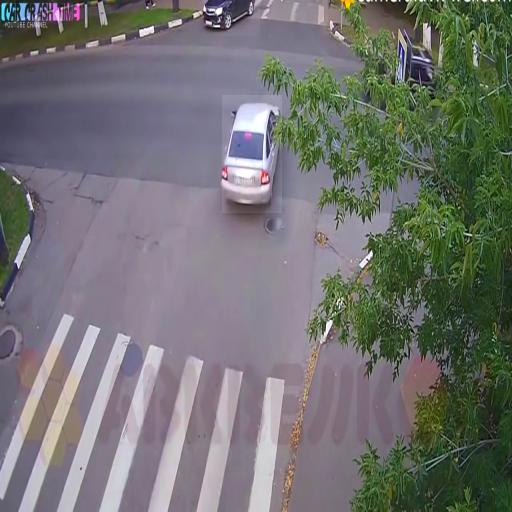小汽车: (222, 96, 282, 214), (202, 0, 260, 36)
